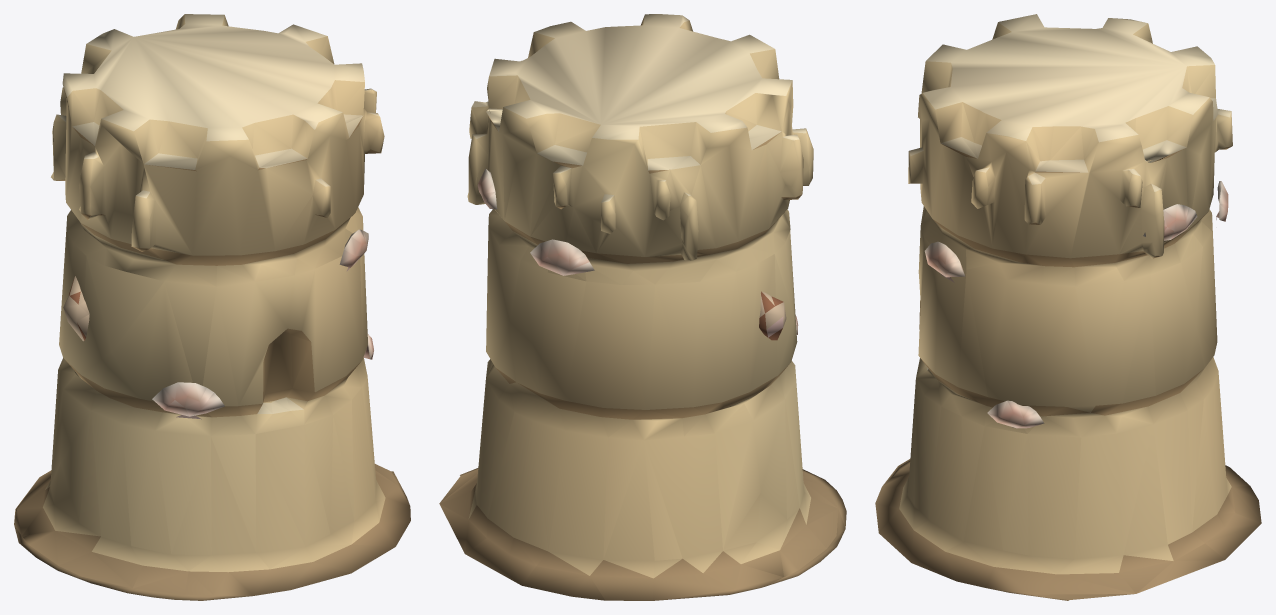
Rendered from shore_castle_tower_lod2.glb.
3 renders of one model, left to right at view 1: azimuth 30°, elevation 25°; view 2: azimuth 150°, elevation 25°; view 3: azimuth 270°, elevation 25°, orthographic.
Parts seen in each view (by area): view 1: shore_castle_tower.001; view 2: shore_castle_tower.001; view 3: shore_castle_tower.001.
Part boxes in pixels (bbox=[...]): shore_castle_tower.001: bbox=[14, 14, 410, 600]; shore_castle_tower.001: bbox=[439, 14, 846, 600]; shore_castle_tower.001: bbox=[875, 14, 1261, 600].
Bounding box in the file's own units: 11.9 × 13.99 × 11.19.
